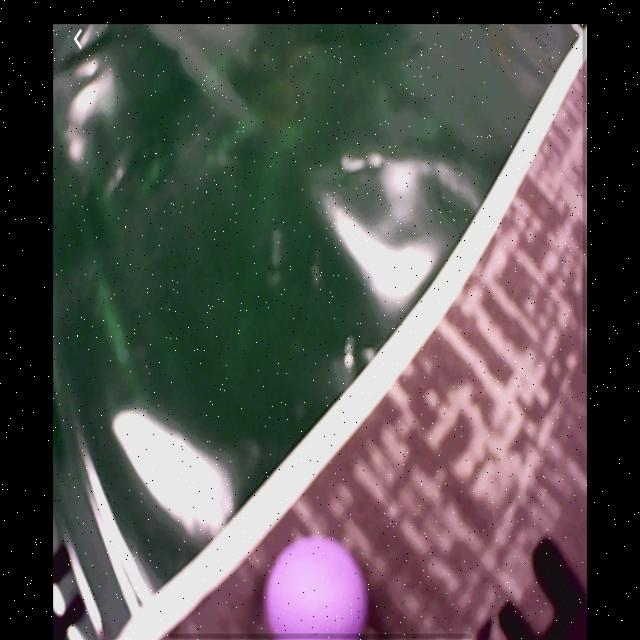ball: (264, 537, 367, 640)
